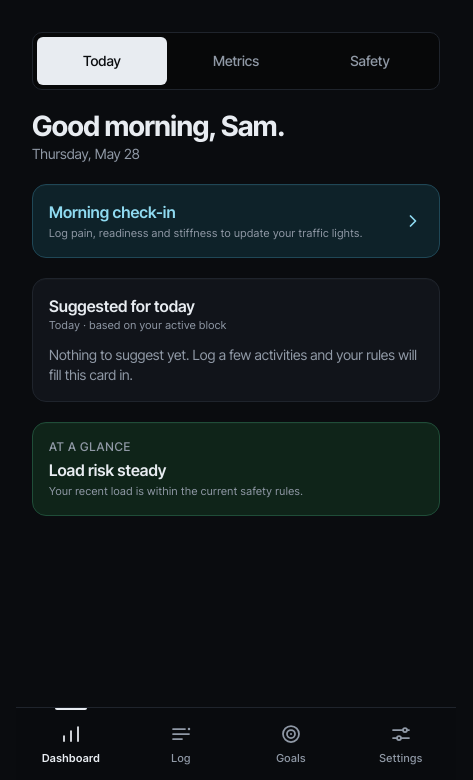
Scenario: App shell (F1.1) › opens Log Incident from Log tab and returns on back
The width and height of the screenshot is (473, 780).
Click the button "Log". click: (181, 744)
box: [126,708,236,779]
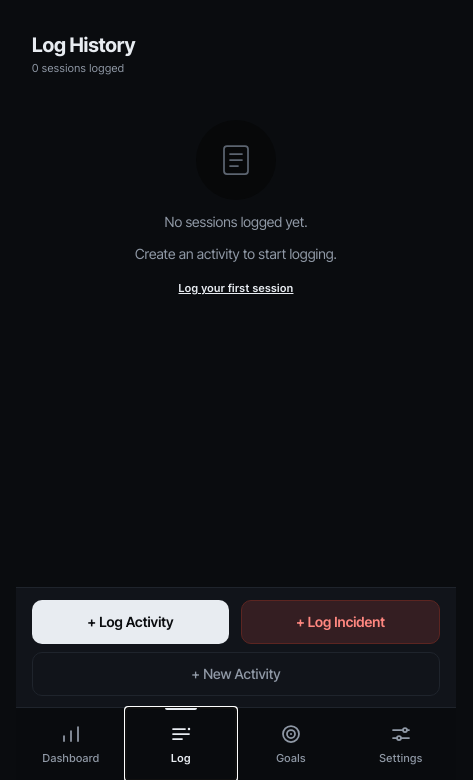
Click the button "+ Log Incident". click: (340, 622)
box: [241,600,440,644]
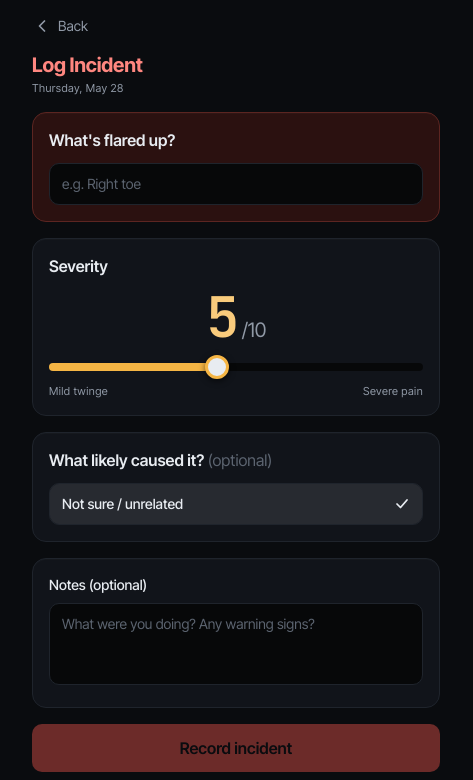
Result: the heading "Log Incident" is shown at [32,52,143,78]
Result: the navigation bar "Primary" is gone
Click the button with aria-label "go back". click: (60, 26)
box: [32,12,88,40]
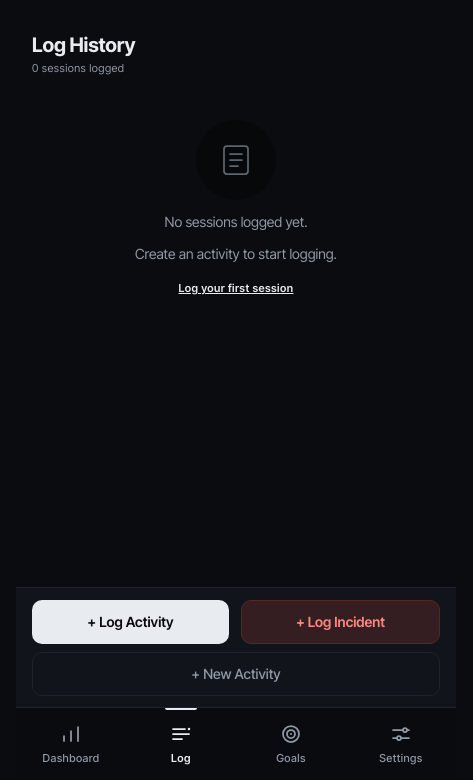
Result: the heading "Log History" is shown at [32,33,135,57]
Result: the navigation bar named "Primary" is shown at [16,707,456,779]
